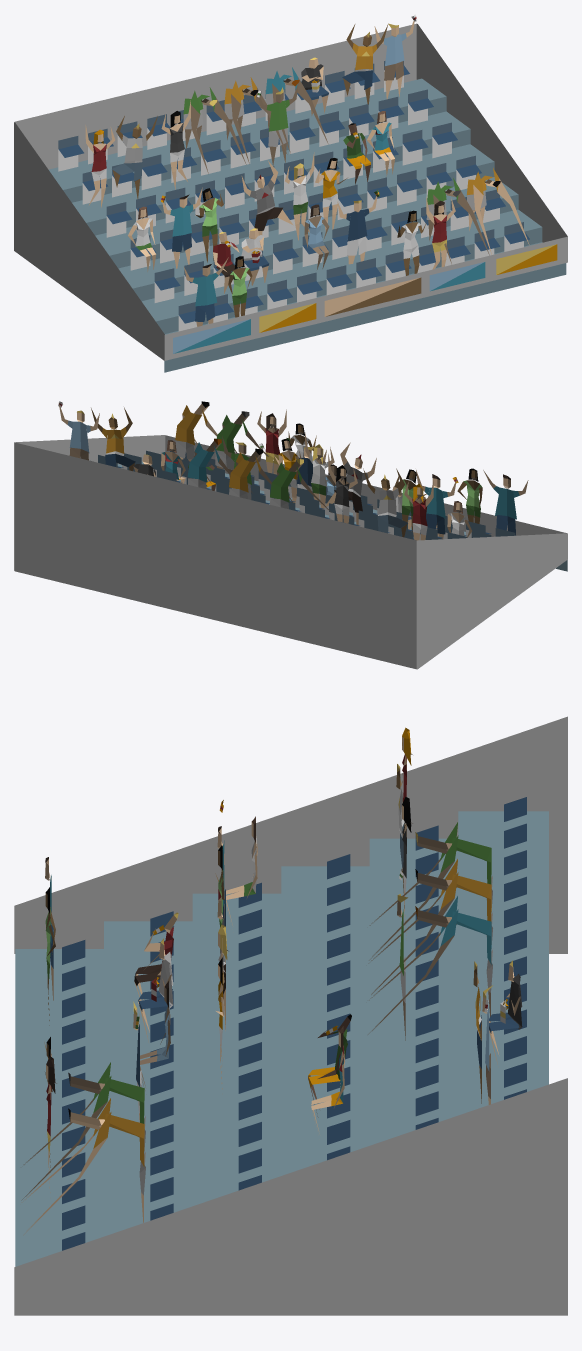
The model's file is publico_lowpoly.fbx.
3 renders of one model, top to bottom at view 1: azimuth 30°, elevation 25°; view 2: azimuth 150°, elevation 25°; view 3: azimuth 270°, elevation 25°, orthographic. The views are drawn at different scales.
Parts seen in each view (by area): view 1: Plane.002, Plane.003, asientos, hombre.015, hombre.013, hombre.1, hombre.004, hombre.006, hombre.009, hombre.003, hombre.010, hombre.008 (+19 smaller); view 2: Plane.002, asientos, hombre.004, hombre.015, Plane, hombre.009, hombre.1, hombre.014, hombre.013, hombre.003, hombre.012, hombre.011 (+13 smaller); view 3: Plane.003, Plane.002, asientos, hombre.015, hombre.012, hombre.014, hombre.013, hombre.011, hombre.007, hombre.2, hombre.000, hombre.005.
Part boxes in pixels (x1,y1,x2,y2): Plane.002: (14, 23, 567, 360); Plane.003: (49, 78, 566, 372); asientos: (58, 61, 529, 331); hombre.015: (467, 168, 529, 254); hombre.013: (183, 87, 246, 173); hombre.1: (161, 187, 202, 268); hombre.004: (112, 116, 157, 198); hombre.006: (374, 14, 417, 98); hombre.009: (342, 24, 388, 104); hombre.003: (241, 161, 293, 246); hombre.010: (257, 82, 298, 165); hombre.008: (337, 190, 379, 264); Plane.002: (14, 435, 567, 669); asientos: (90, 450, 515, 540); hombre.004: (363, 468, 407, 537); hombre.015: (175, 401, 235, 461); Plane: (483, 470, 528, 535); hombre.009: (91, 407, 135, 471); hombre.1: (416, 470, 458, 538); hombre.014: (215, 411, 273, 476); hombre.013: (270, 458, 331, 512); hombre.003: (324, 442, 376, 525); hombre.012: (187, 438, 230, 489); hombre.011: (229, 448, 290, 502); Plane.003: (15, 811, 548, 1266); Plane.002: (14, 716, 567, 1315); asientos: (62, 797, 526, 1250); hombre.015: (21, 1098, 145, 1235); hombre.012: (368, 896, 492, 1034); hombre.014: (21, 1062, 145, 1200); hombre.013: (369, 822, 492, 960); hombre.011: (368, 859, 492, 994); hombre.007: (489, 960, 522, 1064); hombre.2: (138, 938, 173, 1042); hombre.000: (134, 912, 178, 1000); hombre.005: (308, 1014, 351, 1117).
Size of what is drawn, in the model's own units: 1890 by 806 by 1222.
